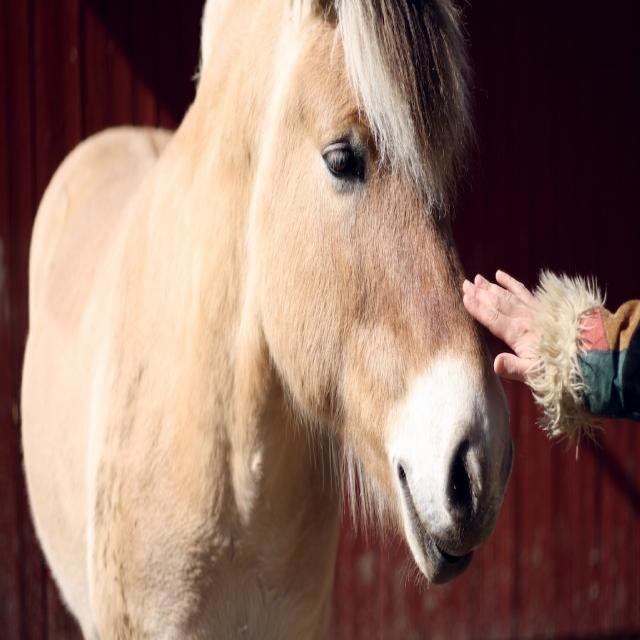Horse: (20, 0, 514, 640)
